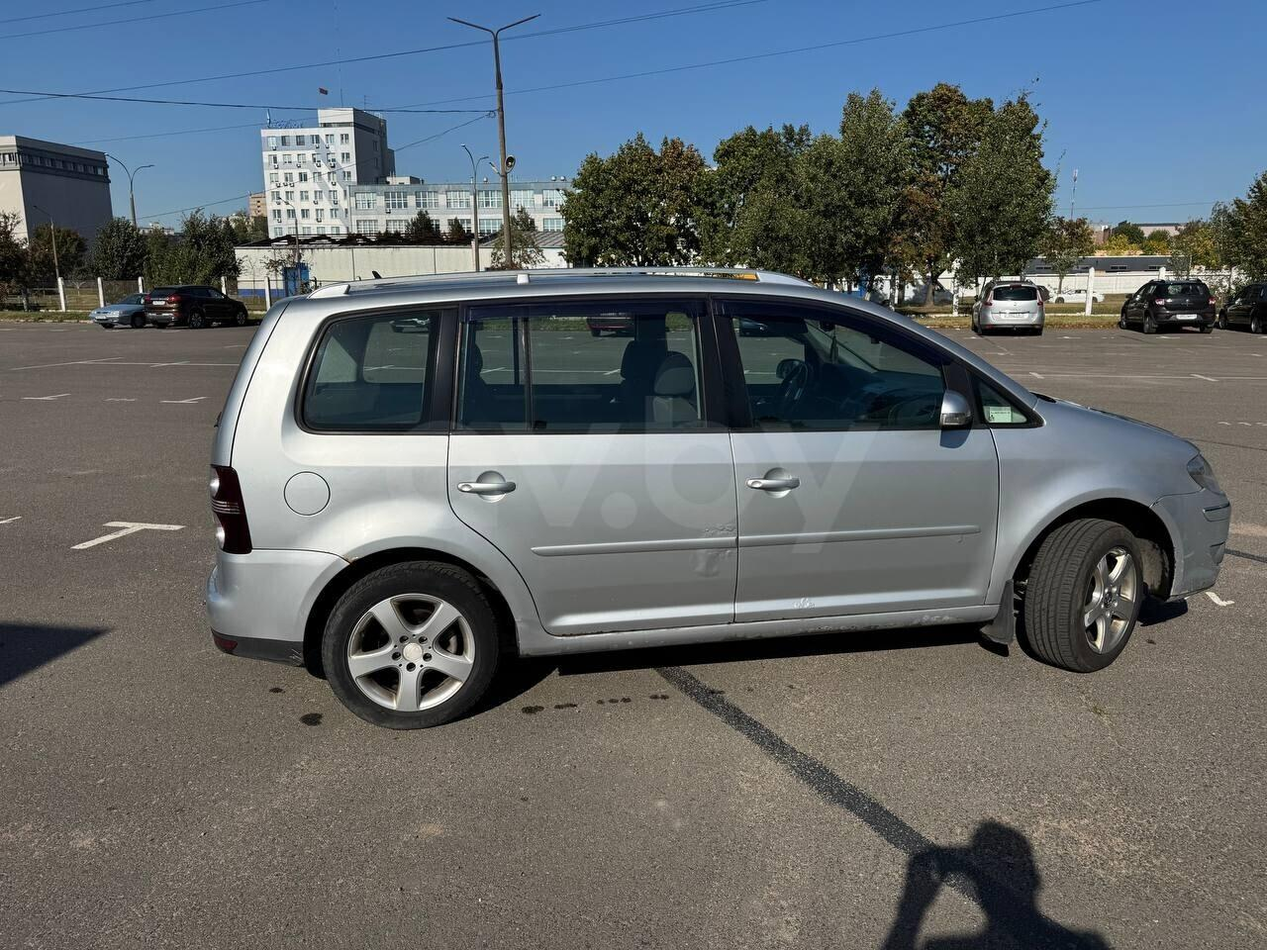Touran_2006-2010: (199, 270, 1231, 724)
